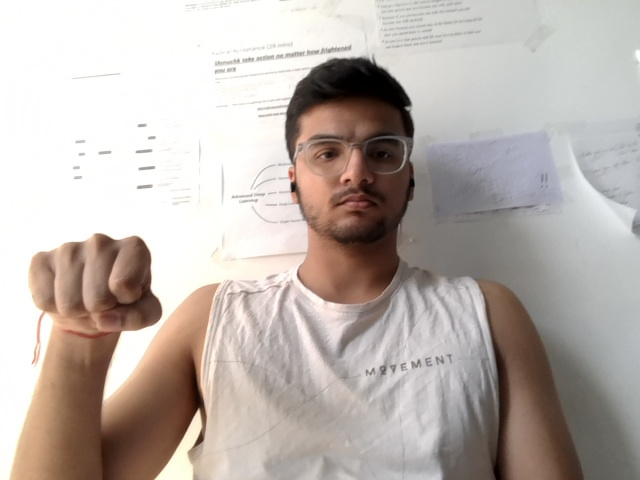yes: (15, 207, 178, 380)
